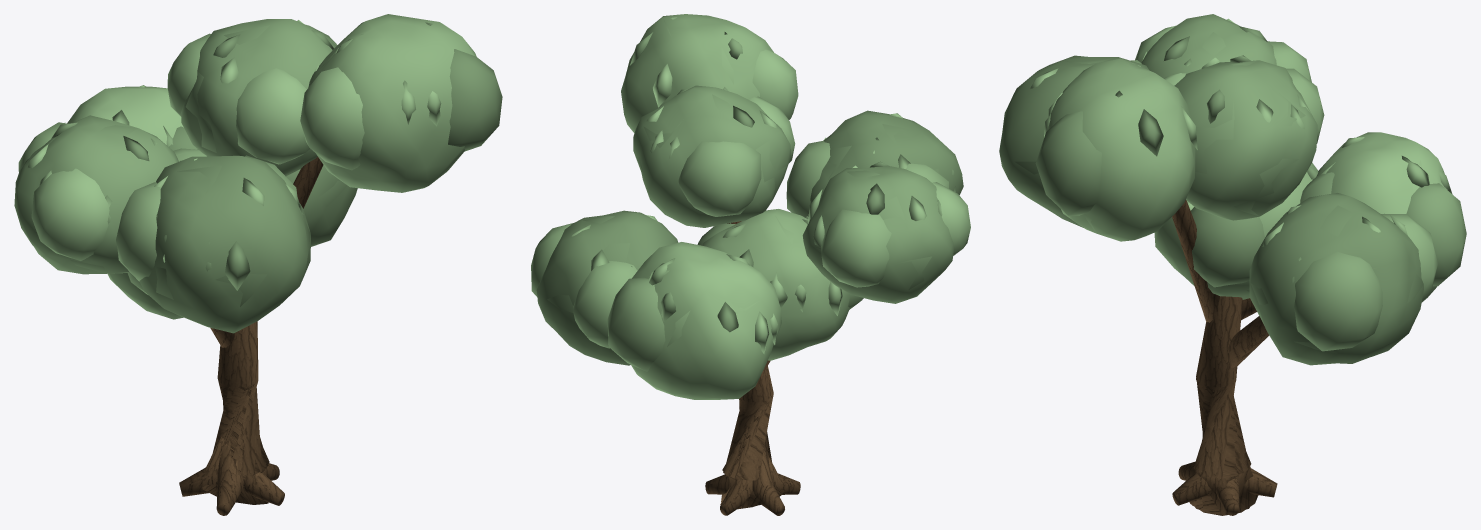
The model's file is env_tree_oak_b_v001.glb.
The picture shows the model from 3 angles, left to right: view 1: azimuth 30°, elevation 25°; view 2: azimuth 150°, elevation 25°; view 3: azimuth 270°, elevation 25°; orthographic projection. The views are drawn at different scales.
Visible parts, largest first — view 1: env_tree_oak_b_LOD0_mesh, env_tree_oak_b_LOD1_mesh, env_tree_oak_b_LOD2_mesh; view 2: env_tree_oak_b_LOD0_mesh, env_tree_oak_b_LOD1_mesh, env_tree_oak_b_LOD2_mesh; view 3: env_tree_oak_b_LOD0_mesh, env_tree_oak_b_LOD1_mesh, env_tree_oak_b_LOD2_mesh.
Part boxes in pixels (box(x1,y1,x2,y2)): env_tree_oak_b_LOD0_mesh: box(14, 14, 502, 515); env_tree_oak_b_LOD1_mesh: box(29, 15, 431, 515); env_tree_oak_b_LOD2_mesh: box(213, 161, 321, 503); env_tree_oak_b_LOD0_mesh: box(531, 14, 970, 515); env_tree_oak_b_LOD1_mesh: box(547, 18, 938, 515); env_tree_oak_b_LOD2_mesh: box(721, 365, 773, 502); env_tree_oak_b_LOD0_mesh: box(999, 14, 1466, 515); env_tree_oak_b_LOD1_mesh: box(1014, 32, 1423, 515); env_tree_oak_b_LOD2_mesh: box(1175, 213, 1268, 505).
Size of the model in its own units: 8 by 9 by 8.
Materials: 5 (1 with a texture image).
